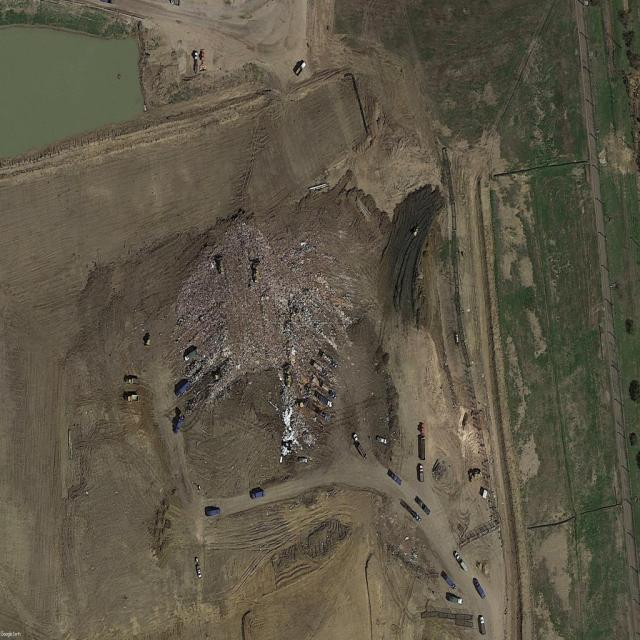dump_site: (175, 211, 363, 390), (181, 358, 244, 423), (277, 370, 318, 469), (180, 343, 224, 393)
